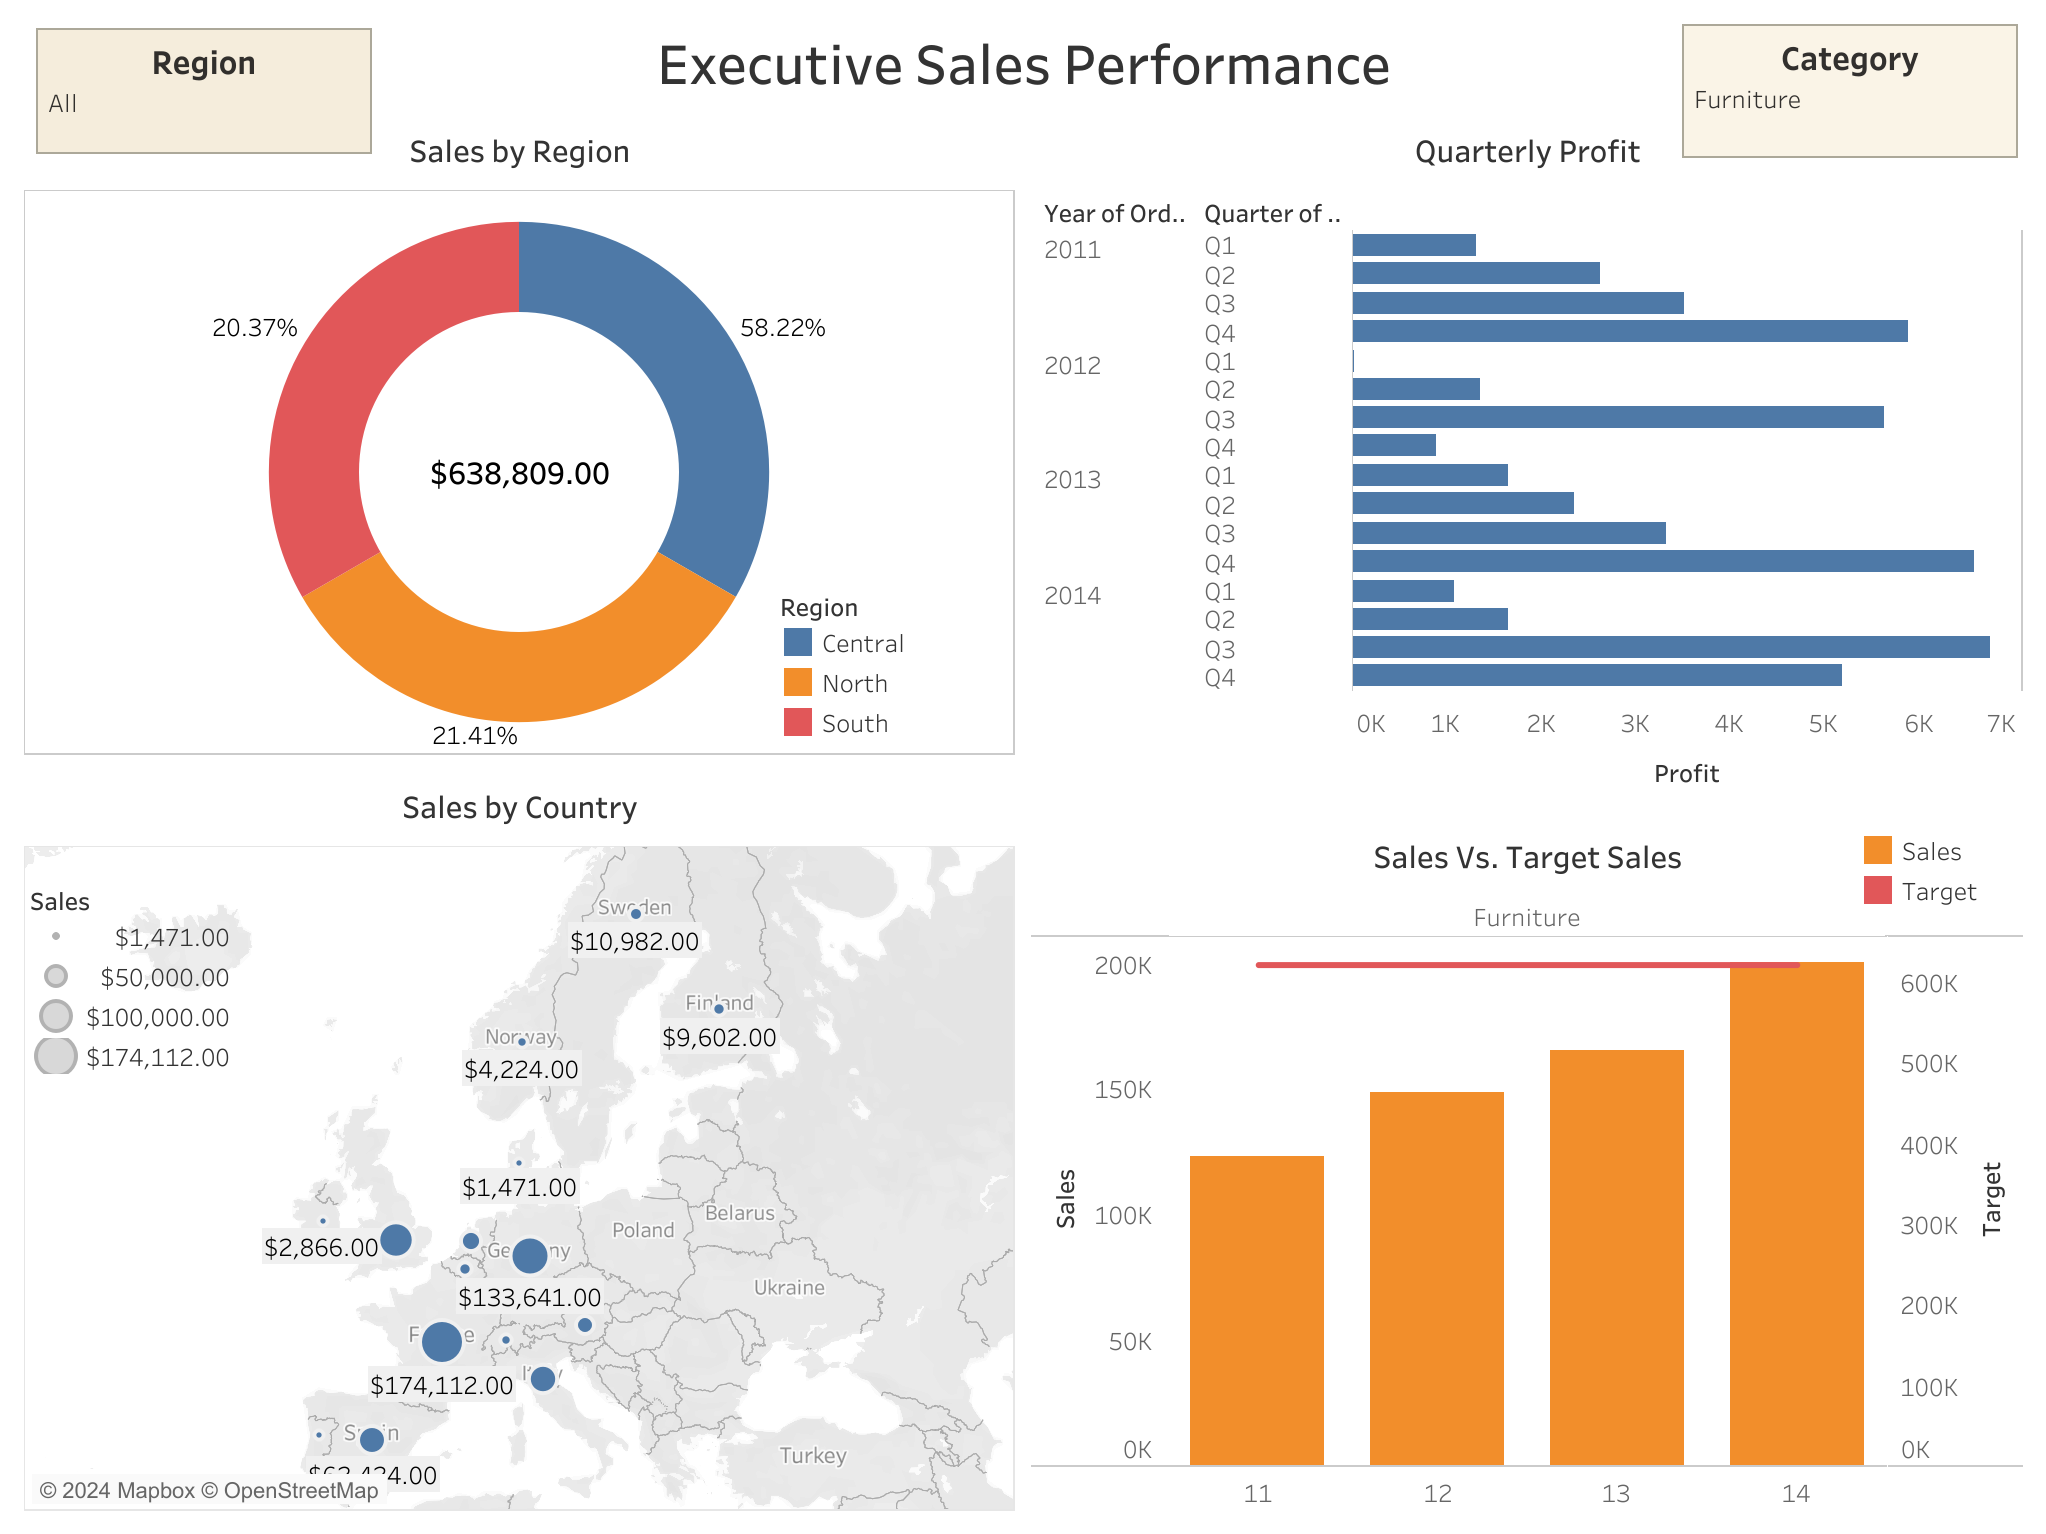

Layout of this report page (visuals, bound fields, positions):
{"tool":"tableau","page":{"name":"Executive Sales Performance","canvas":[1024,768],"ordinal":0},"visuals":[{"type":"title","box":[8,8,1008,53]},{"type":"filter","title":"Sales Vs. Target Sales","param":"[federated.15fodvr0ff34oq16vyoo31s4760w].[none:Category (SalesTargets1):nk]","box":[841,12,168,67]},{"type":"filter","title":"Sales by Region","param":"[federated.15fodvr0ff34oq16vyoo31s4760w].[none:Region:nk]","box":[18,14,168,63]},{"type":"worksheet","title":"Sales by Region","mark":"Pie","cols":["Calculation_-[number redacted]","Calculation_-[number redacted]"],"box":[8,61,504,324.6]},{"type":"worksheet","title":"Quarterly Profit","mark":"Bar","rows":["Order Date","Order Date"],"cols":["Profit"],"box":[512,61,504,349.5]},{"type":"legend","title":"Sales by Region","param":"[federated.15fodvr0ff34oq16vyoo31s4760w].[none:Region:nk]","box":[389,292,81,85]},{"type":"worksheet","title":"Sales by Country","mark":"Automatic","box":[8,385.6,504,374.4]},{"type":"worksheet","title":"Sales Vs. Target Sales","mark":"Automatic","rows":["Sales","Target (SalesTargets1)"],"cols":["Category (SalesTargets1)","Order Date"],"box":[512,410.5,504,349.5]},{"type":"legend","title":"Sales Vs. Target Sales","param":"[federated.15fodvr0ff34oq16vyoo31s4760w].[:Measure Names]","box":[929,415,78,75]},{"type":"legend","title":"Sales by Country","param":"[federated.15fodvr0ff34oq16vyoo31s4760w].[sum:Sales:qk]","box":[14,439,140,106]}]}

Visuals, with their boxes in screenshot pixels (x1, y1, x2, y2), scaled from the page's 1024x768 canvas onto the 2046x1534 screenshot:
title: l=16, t=16, r=2030, b=122
"Sales Vs. Target Sales" filter: l=1680, t=24, r=2016, b=158
"Sales by Region" filter: l=36, t=28, r=372, b=154
"Sales by Region" worksheet (Pie marks): l=16, t=122, r=1023, b=770
"Quarterly Profit" worksheet (Bar marks): l=1023, t=122, r=2030, b=820
"Sales by Region" legend: l=777, t=583, r=939, b=753
"Sales by Country" worksheet: l=16, t=770, r=1023, b=1518
"Sales Vs. Target Sales" worksheet: l=1023, t=820, r=2030, b=1518
"Sales Vs. Target Sales" legend: l=1856, t=829, r=2012, b=979
"Sales by Country" legend: l=28, t=877, r=308, b=1089
